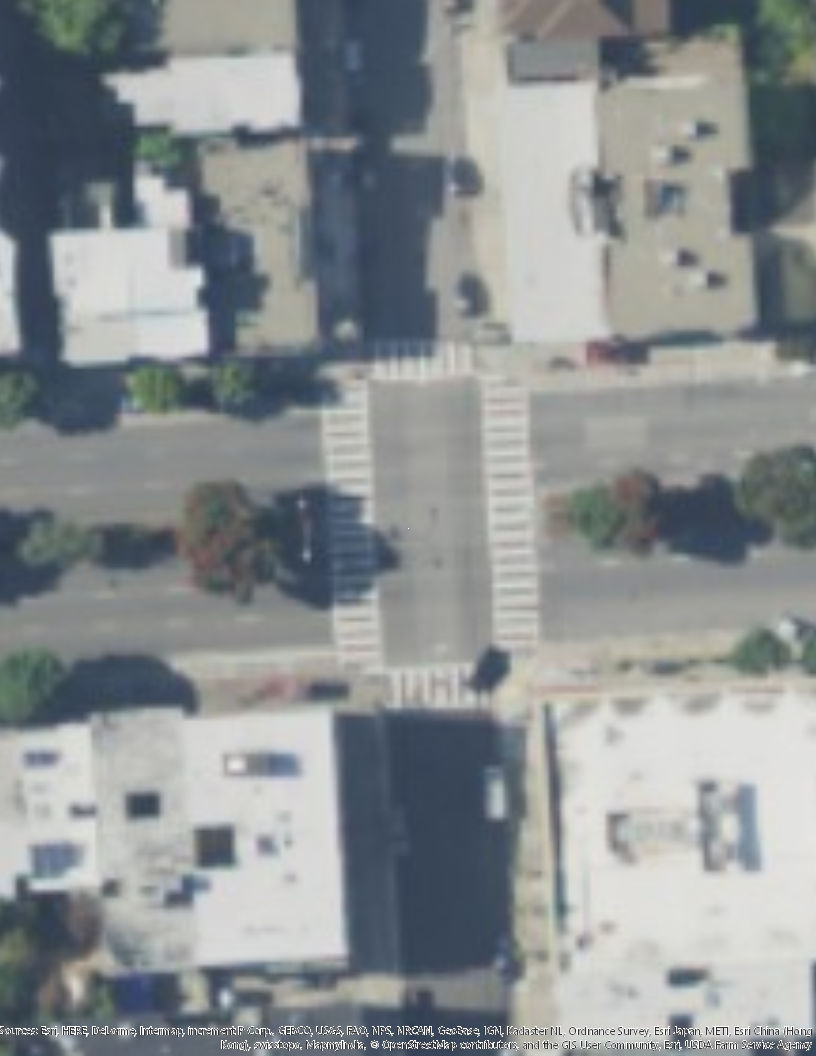zebracross: (318, 379, 382, 661), (477, 381, 544, 650), (384, 661, 491, 711), (371, 336, 483, 381)
